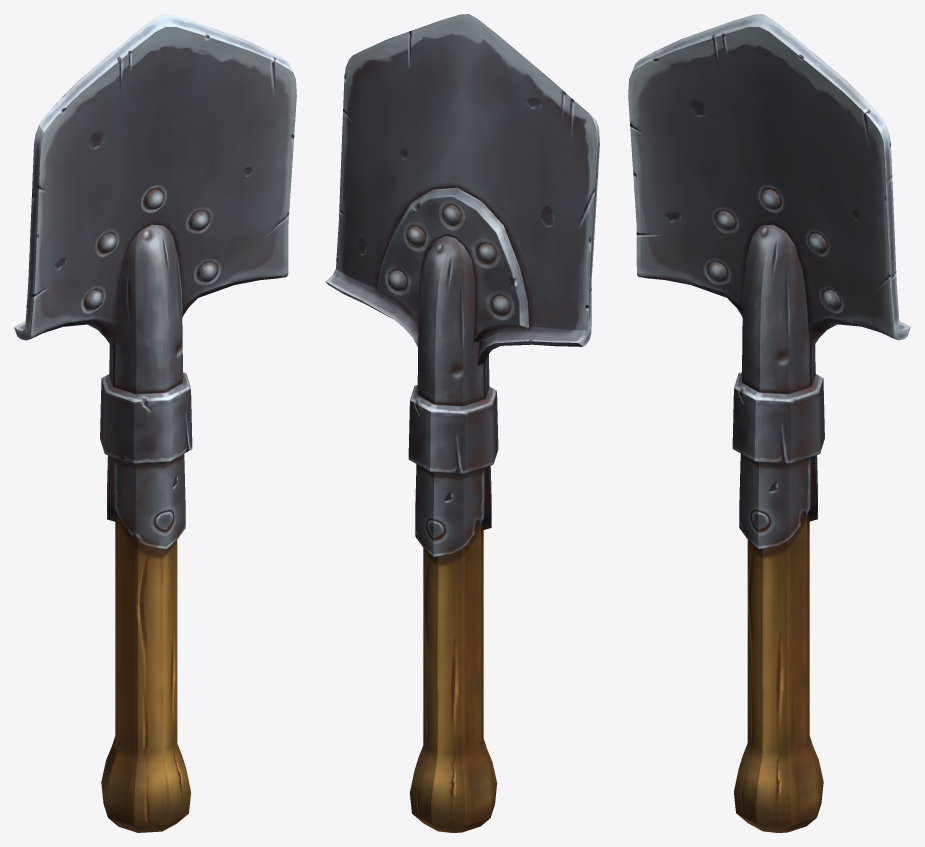
The model's file is Shovel_Toon.fbx.
3 renders of one model, left to right at view 1: azimuth 30°, elevation 25°; view 2: azimuth 150°, elevation 25°; view 3: azimuth 330°, elevation 25°, orthographic. The views are drawn at different scales.
Visible parts, largest first — view 1: Shovel_Toon, Shovel_Stick; view 2: Shovel_Toon, Shovel_Stick; view 3: Shovel_Toon, Shovel_Stick.
Part boxes in pixels (x1,y1,x2,y2): Shovel_Toon: (14, 14, 296, 548); Shovel_Stick: (101, 513, 190, 832); Shovel_Toon: (325, 14, 599, 556); Shovel_Stick: (409, 522, 497, 832); Shovel_Toon: (628, 14, 910, 548); Shovel_Stick: (734, 513, 823, 832).
Bounding box in the file's own units: 46.46 × 140 × 14.7.
1 material, 1 textured.
